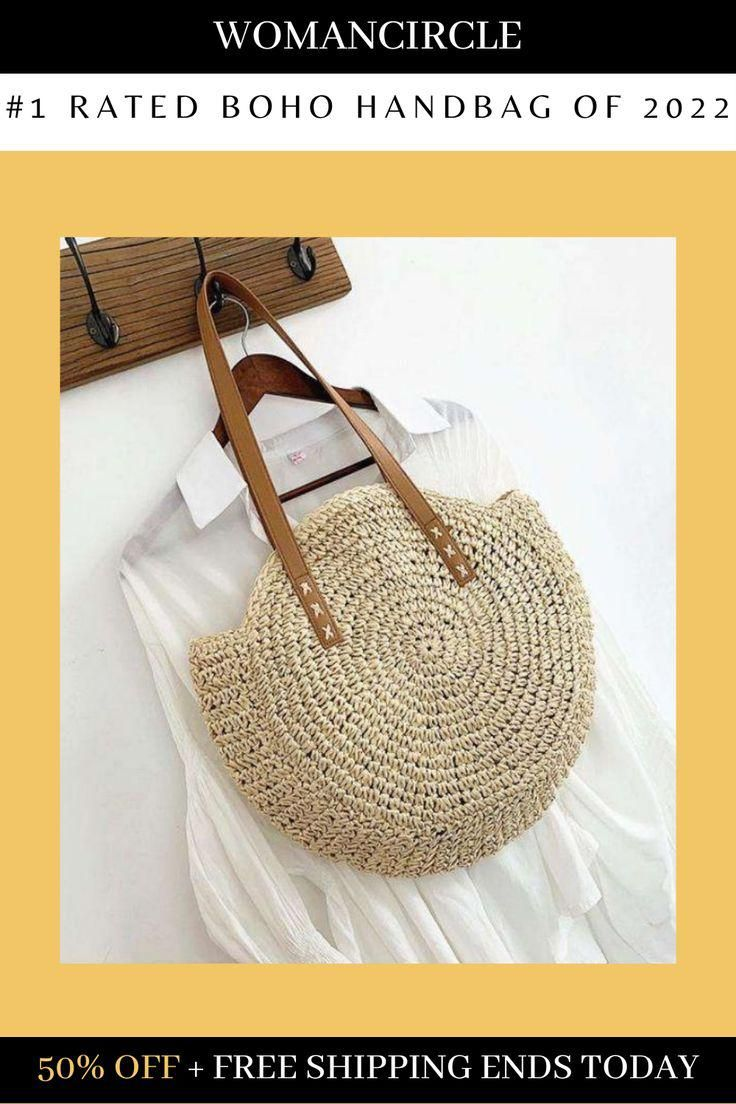cuero: (194, 270, 477, 650)
